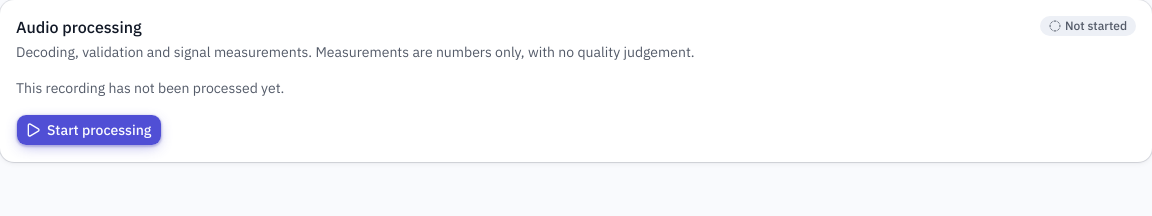
Scenario: ProcessingCard actions › shows a readable message for 409 and 503, never raw JSON
Later steps or results of the test are not shown.
What coordinates should you click on to do the following:
click the button "Start processing"
I would click on:
 (89, 130)
Its box is [16,114,162,146].
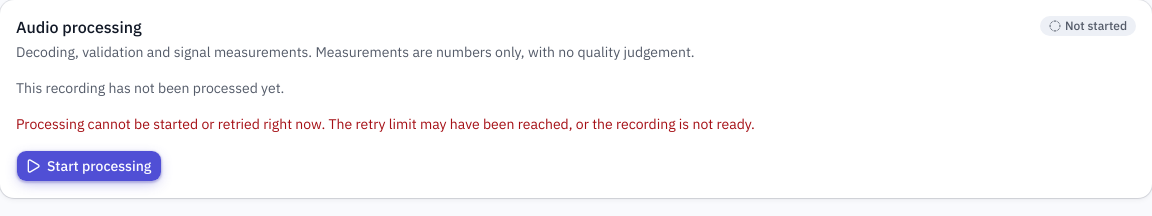
Result: the message shows "cannot be started or retried right now" at [16,115,755,133]
